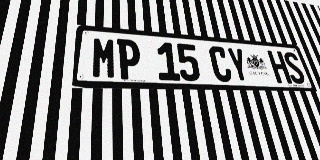1: (156, 42, 181, 81)
5: (176, 43, 201, 81)
C: (208, 46, 233, 82)
H: (267, 50, 292, 84)
M: (91, 37, 117, 79)
P: (117, 39, 141, 80)
S: (282, 52, 307, 84)
Y: (226, 47, 251, 83)
